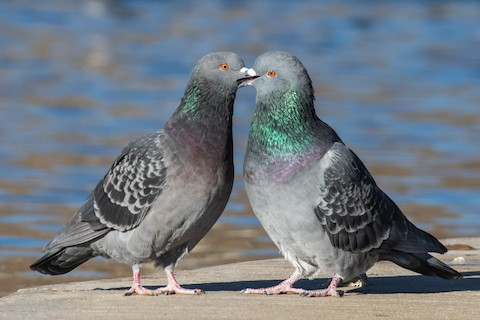pigeon: (30, 47, 256, 297), (231, 49, 460, 293)
